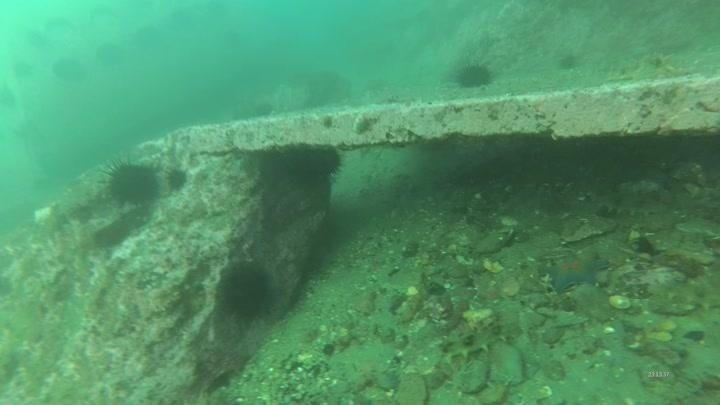echinus: (216, 259, 278, 324), (101, 156, 163, 209), (279, 141, 343, 187), (452, 60, 495, 92), (50, 55, 88, 87), (94, 39, 127, 70), (164, 165, 190, 194), (555, 51, 581, 73)
holothurian: (438, 315, 508, 365), (590, 184, 674, 223), (645, 275, 720, 317), (603, 49, 688, 86)
starfish: (542, 250, 610, 294)
